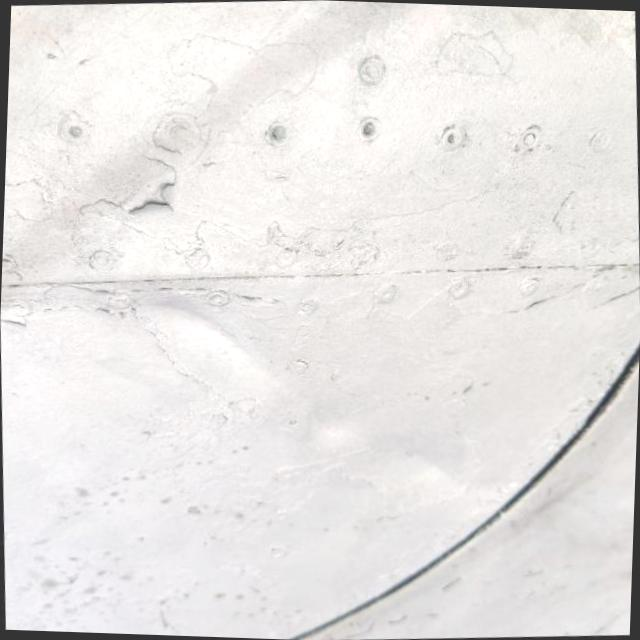dent: (132, 303, 310, 402), (366, 415, 472, 512)
